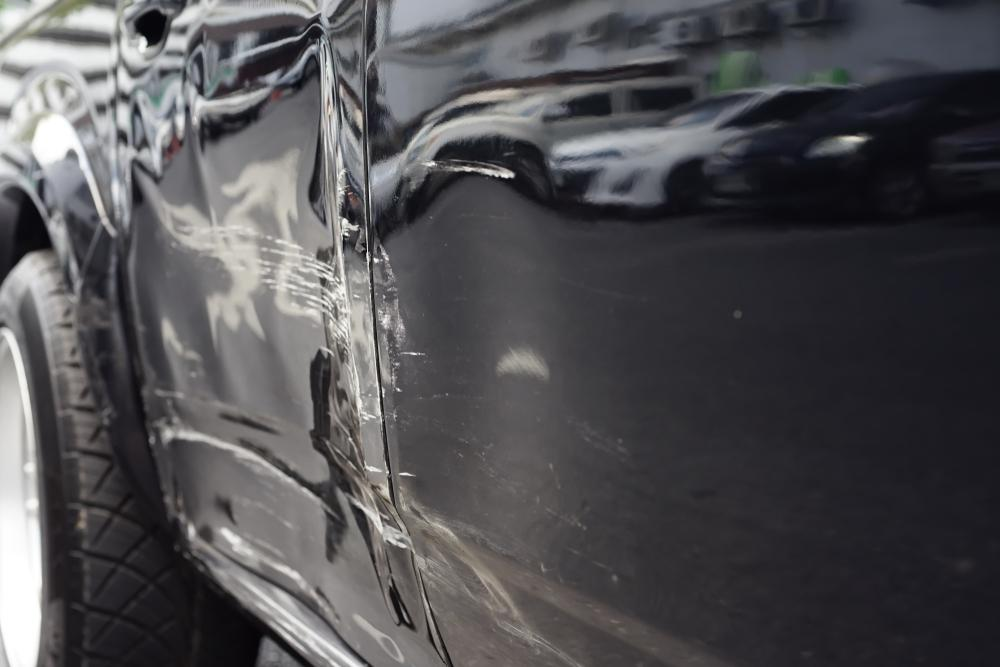dent: (375, 132, 549, 570)
scratch: (146, 166, 427, 616)
